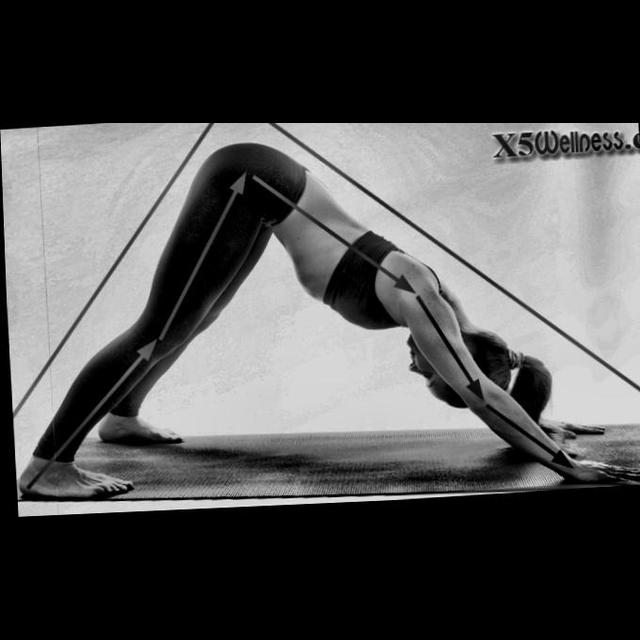Downward-Facing_Dog: (16, 142, 640, 502)
